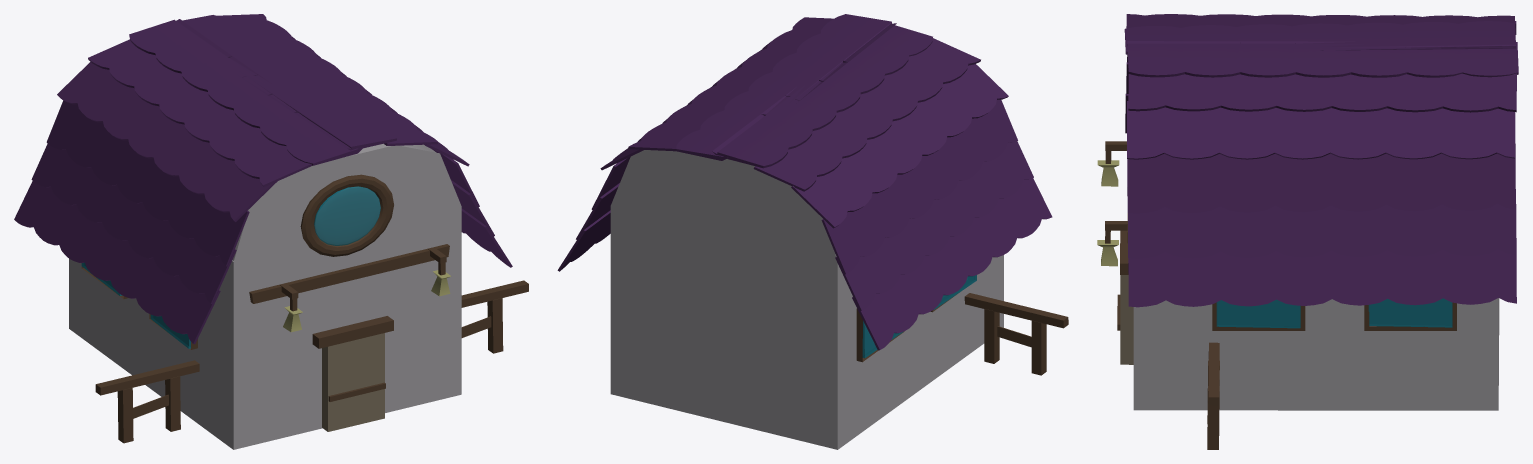
File: Bear_NPC_House.fbx
The picture shows the model from 3 angles, left to right: view 1: azimuth 30°, elevation 25°; view 2: azimuth 150°, elevation 25°; view 3: azimuth 270°, elevation 25°; orthographic projection. The views are drawn at different scales.
Parts seen in each view (by area): view 1: pCube67, polySurface415, polySurface414, pCube46, pCube33, pTorus6, pCube55, pCube48, pCube50, pCube62, pCube51, pCube53 (+1 smaller); view 2: pCube67, polySurface415, polySurface414, pCube50, pCube51, pCube53; view 3: polySurface414, pCube67, polySurface415, pCube72, pCube30, pCube46, pCube62, pCube70, pCube65, pCube71, pCube58, pCube61.
Boxes of the visible parts, x1,y1,x2,y2 form: pCube67: (69,143,461,449); polySurface415: (14,19,362,344); polySurface414: (182,14,512,267); pCube46: (322,333,384,431); pCube33: (314,186,380,245); pTorus6: (300,174,393,256); pCube55: (249,244,449,303); pCube48: (312,316,393,348); pCube50: (95,360,199,395); pCube62: (461,280,528,307); pCube51: (117,387,133,443); pCube53: (165,376,180,431); pCube67: (610,150,1003,449); polySurface415: (712,25,1052,350); polySurface414: (557,14,896,271); pCube50: (964,293,1068,328); pCube51: (1031,320,1046,375); pCube53: (984,309,999,363); polySurface414: (1127,41,1518,307); pCube67: (1133,298,1499,410); polySurface415: (1124,14,1516,133); pCube72: (1368,298,1452,327); pCube30: (1216,299,1300,328); pCube46: (1120,275,1133,364); pCube62: (1208,342,1219,405); pCube70: (1364,302,1456,330); pCube65: (1207,386,1219,449); pCube71: (1212,302,1305,330); pCube58: (1097,160,1119,186); pCube61: (1097,240,1118,266).
Size of the model in its own units: 14.8 by 9.17 by 11.44.
